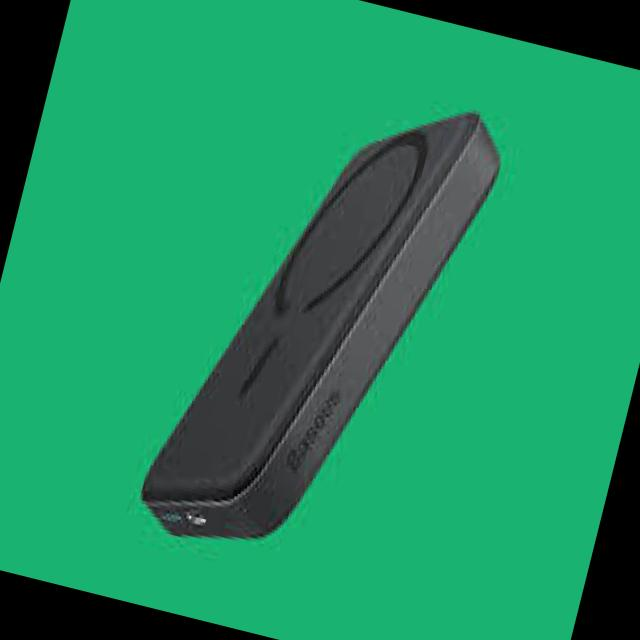power_bank: (124, 39, 520, 594)
